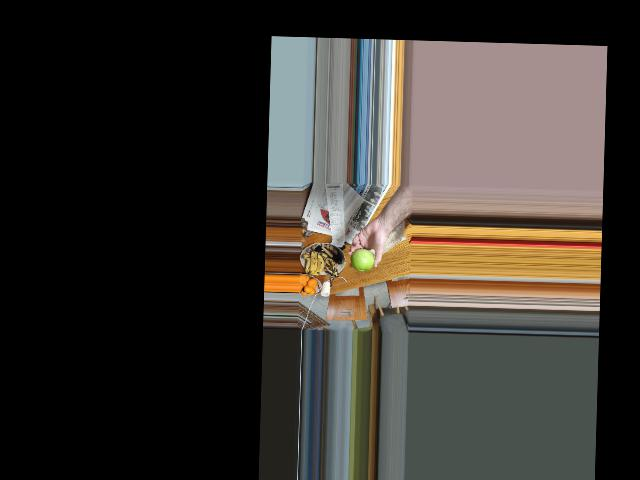apple: (351, 245, 377, 275)
